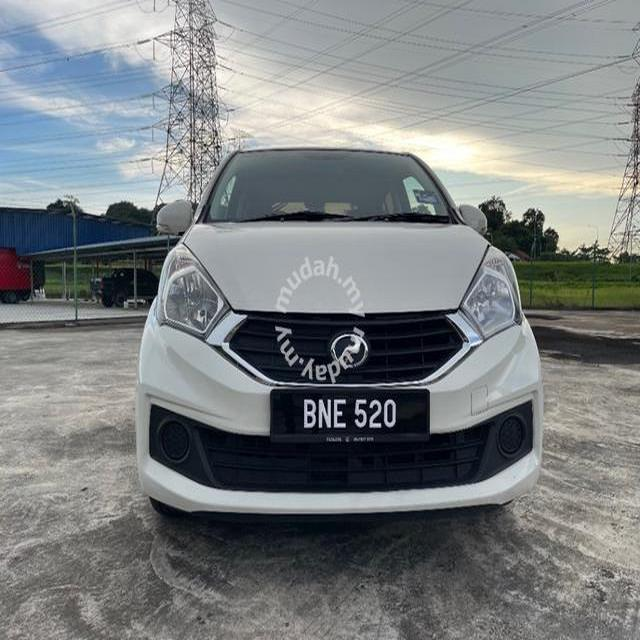License_Plate: (261, 383, 446, 452)
car: (123, 121, 562, 540)
